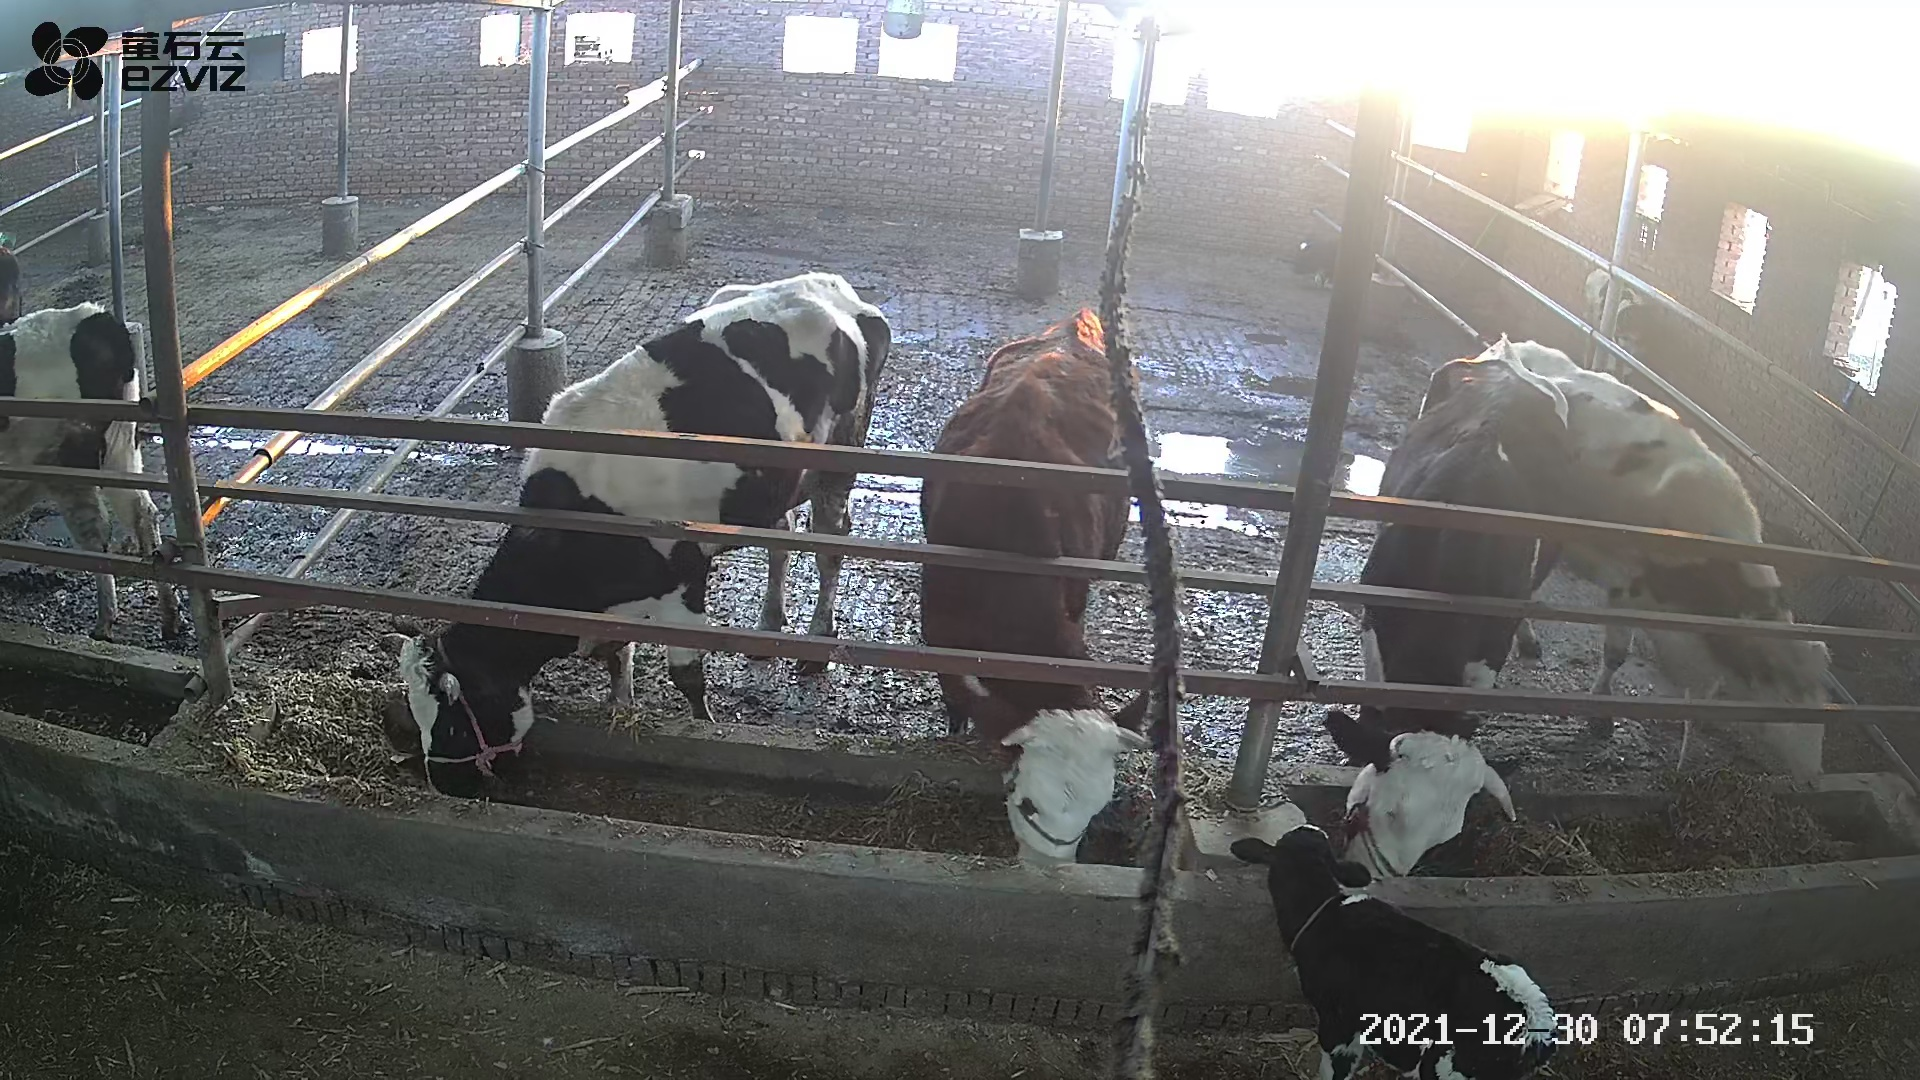cow: (377, 272, 891, 796), (1513, 338, 1834, 793), (1319, 330, 1578, 877), (918, 306, 1153, 865)
